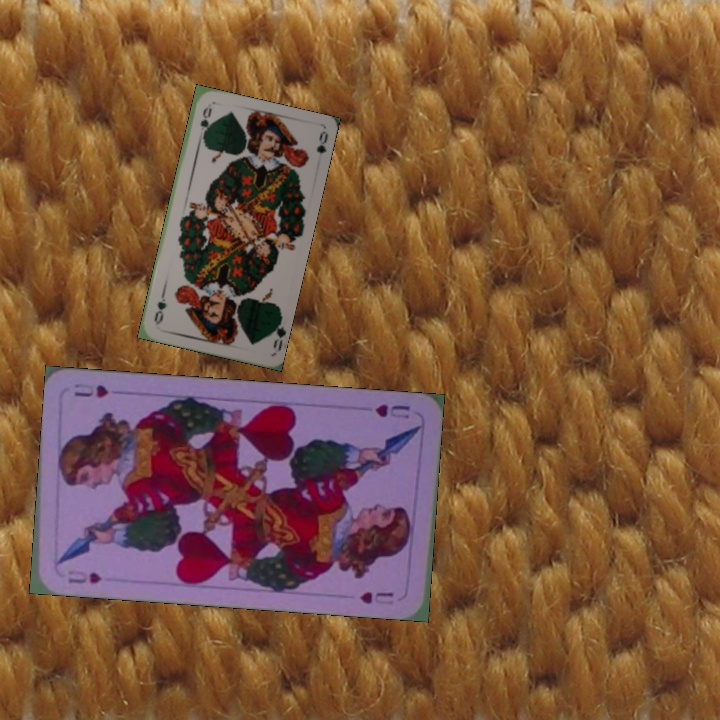GO: (264, 313, 287, 353), (196, 102, 214, 143)
HU: (371, 400, 412, 422), (64, 568, 106, 586)
